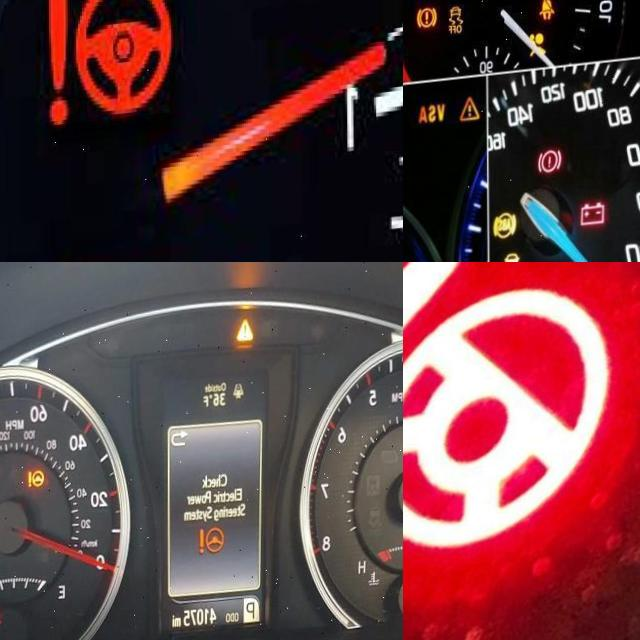Electronic Power Steering: (403, 262, 610, 569)
Electronic Power Steering Warning: (47, 0, 174, 134), (197, 531, 225, 563), (28, 472, 46, 493)
Seat Belt: (540, 0, 554, 24)
